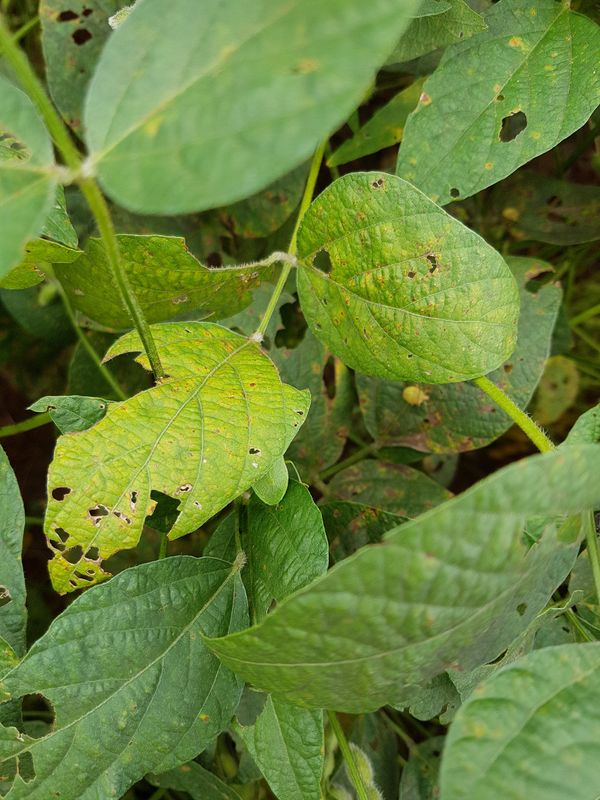Euschistus_heros_ninfa: (395, 378, 435, 416)
Nezara_viridula_adulto: (241, 445, 314, 518)
